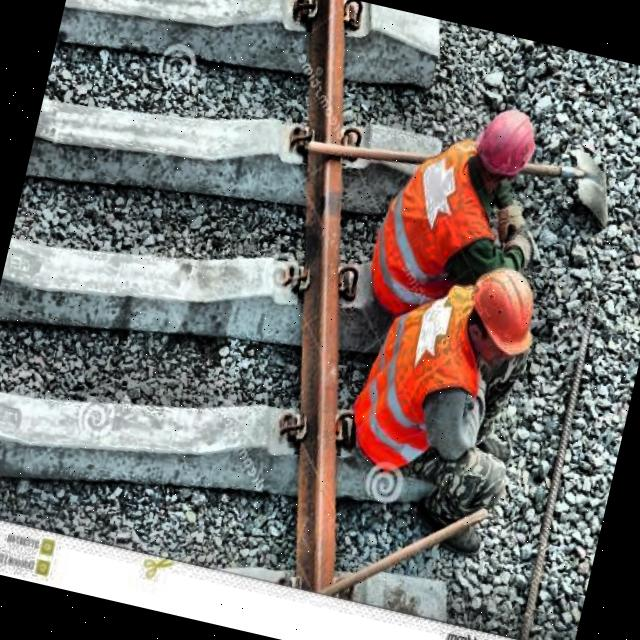helmet: (450, 251, 552, 370), (460, 93, 552, 208)
